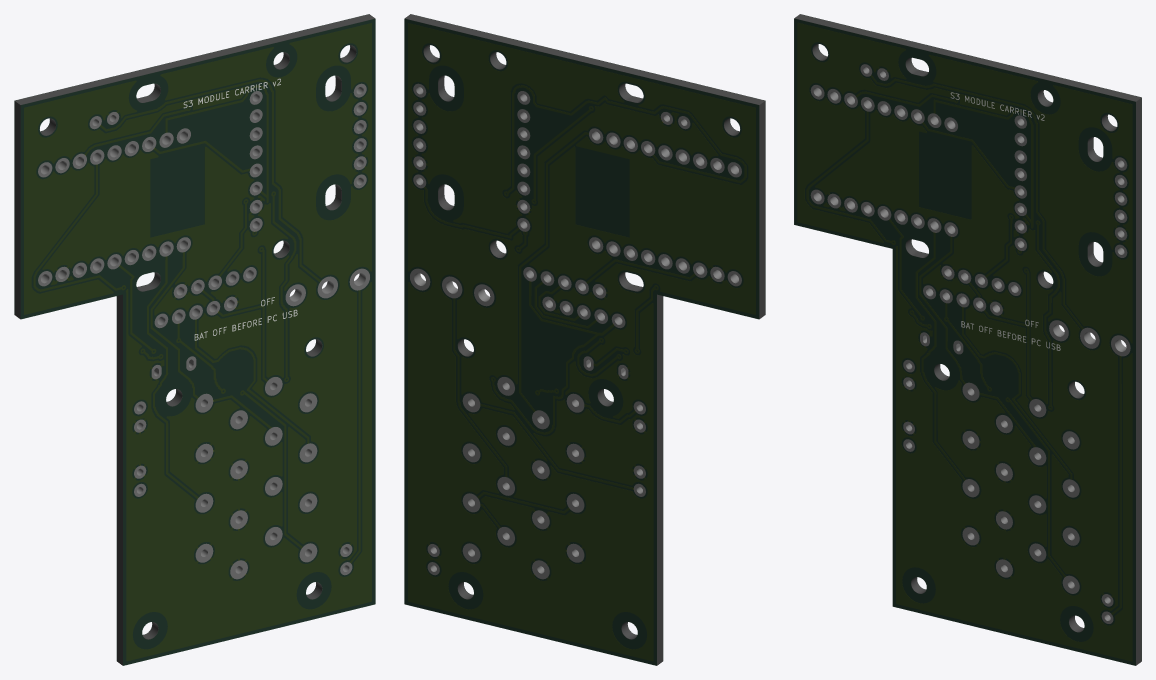
File: preview-regular-mount.obj
3 views of the same model, side by side, from view 1: azimuth 30°, elevation 25°; view 2: azimuth 150°, elevation 25°; view 3: azimuth 330°, elevation 25° (orthographic). The views are drawn at different scales.
Visible parts, largest first — view 1: grp8255, grp14259, grp1, grp64551, grp12295; view 2: grp8255, grp14259, grp1, grp64551; view 3: grp8255, grp14259, grp1, grp64551, grp12295.
Part boxes in pixels (left/top/right/bottom): grp8255: left=14, top=14, right=375, bottom=665; grp14259: left=24, top=23, right=371, bottom=660; grp1: left=14, top=14, right=374, bottom=665; grp64551: left=38, top=83, right=369, bottom=579; grp12295: left=183, top=78, right=297, bottom=340; grp8255: left=404, top=14, right=765, bottom=665; grp14259: left=408, top=23, right=755, bottom=660; grp1: left=405, top=14, right=765, bottom=665; grp64551: left=410, top=83, right=741, bottom=579; grp8255: left=794, top=14, right=1141, bottom=665; grp14259: left=798, top=23, right=1131, bottom=660; grp1: left=794, top=14, right=1141, bottom=665; grp64551: left=810, top=64, right=1130, bottom=623; grp12295: left=950, top=92, right=1060, bottom=350.
Size of the model in its own units: 52 by 82 by 1.63.
